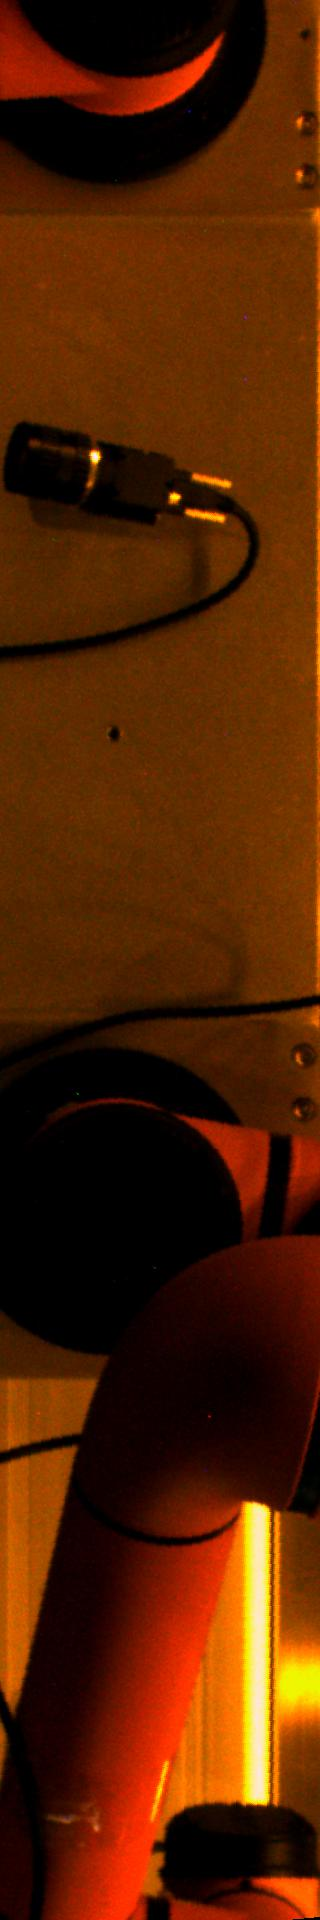keyPoint_2: (98, 720, 128, 749)
